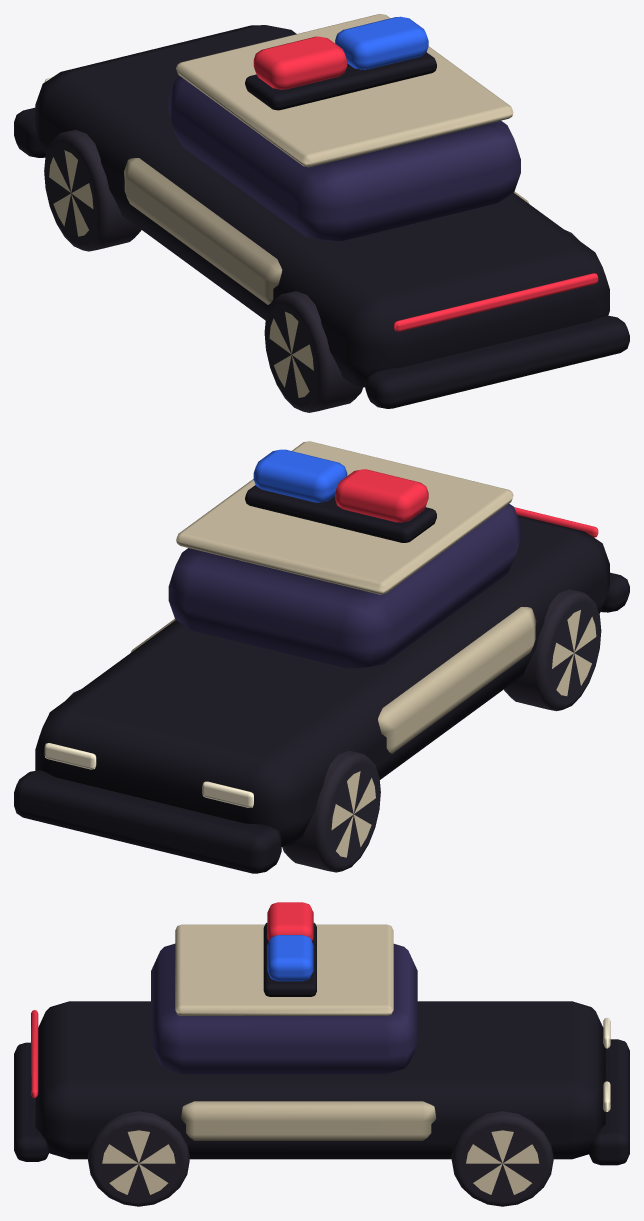
Rendered from police.glb.
3 renders of one model, top to bottom at view 1: azimuth 30°, elevation 25°; view 2: azimuth 150°, elevation 25°; view 3: azimuth 270°, elevation 25°, orthographic. The views are drawn at different scales.
Visible parts, largest first — view 1: body, glass, wheel_rl_mesh, wheel_fl_mesh, lightbar_red, lightbar_blue, lights; view 2: body, glass, wheel_fl_mesh, wheel_rl_mesh, lightbar_red, lightbar_blue, lights; view 3: body, glass, wheel_fr_mesh, wheel_rr_mesh, lightbar_blue, lightbar_red, lights.
Part boxes in pixels (<box>): body: <box>14,14,629,408</box>; glass: <box>168,76,520,241</box>; wheel_rl_mesh: <box>264,291,363,412</box>; wheel_fl_mesh: <box>44,130,141,251</box>; lightbar_red: <box>253,36,347,89</box>; lightbar_blue: <box>335,16,428,69</box>; lights: <box>44,77,598,331</box>; body: <box>14,441,629,873</box>; glass: <box>168,503,520,668</box>; wheel_fl_mesh: <box>282,750,380,872</box>; wheel_rl_mesh: <box>504,589,601,711</box>; lightbar_red: <box>335,469,428,522</box>; lightbar_blue: <box>253,449,347,502</box>; lights: <box>44,507,598,807</box>; body: <box>14,923,629,1165</box>; glass: <box>151,943,417,1074</box>; wheel_fr_mesh: <box>451,1111,553,1206</box>; wheel_rr_mesh: <box>88,1111,189,1206</box>; lightbar_blue: <box>267,935,313,981</box>; lightbar_red: <box>267,902,313,941</box>; lights: <box>31,1010,610,1111</box>.
Bounding box in the file's own units: 2.22 × 2.03 × 5.08.
